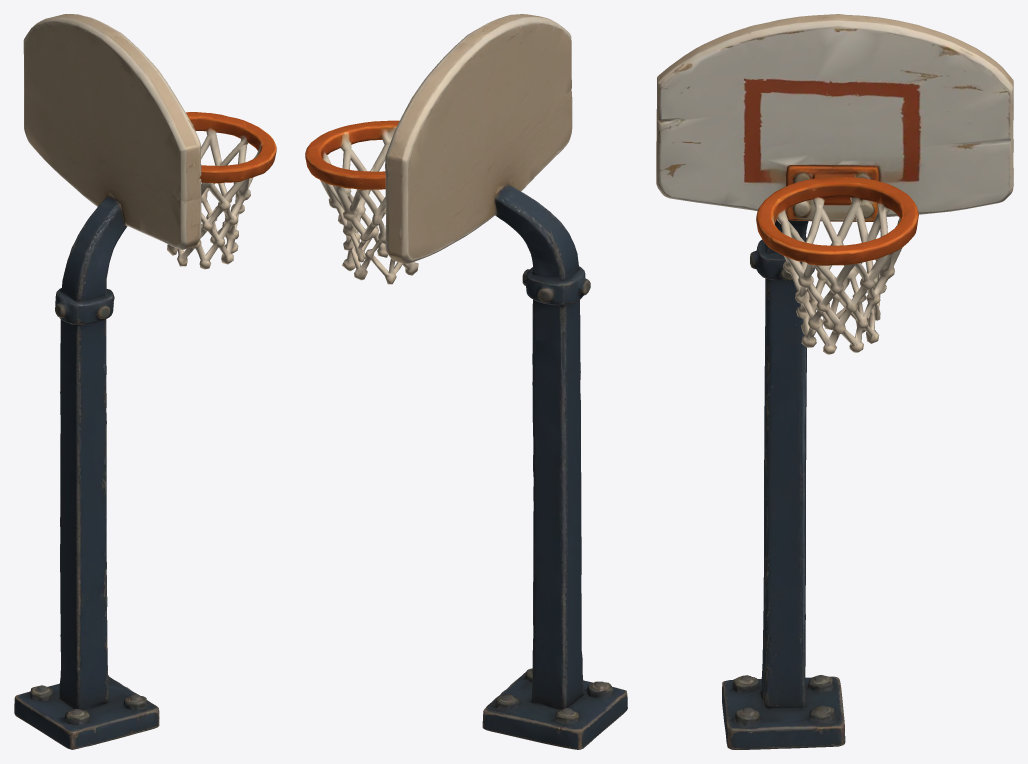
File: aro_basquet.glb
The picture shows the model from 3 angles, left to right: view 1: azimuth 30°, elevation 25°; view 2: azimuth 150°, elevation 25°; view 3: azimuth 270°, elevation 25°; orthographic projection. The views are drawn at different scales.
Parts seen in each view (by area): view 1: tripo_node_d9399b8a-0456-47fd-a5bd-db7ca9b3d6d9; view 2: tripo_node_d9399b8a-0456-47fd-a5bd-db7ca9b3d6d9; view 3: tripo_node_d9399b8a-0456-47fd-a5bd-db7ca9b3d6d9.
Boxes of the visible parts, x1,y1,x2,y2 form: tripo_node_d9399b8a-0456-47fd-a5bd-db7ca9b3d6d9: (14,14,276,749); tripo_node_d9399b8a-0456-47fd-a5bd-db7ca9b3d6d9: (305,14,627,749); tripo_node_d9399b8a-0456-47fd-a5bd-db7ca9b3d6d9: (656,14,1013,749).
Size of the model in its own units: 0.4017 by 1 by 0.4409.
1 material, 1 textured.
